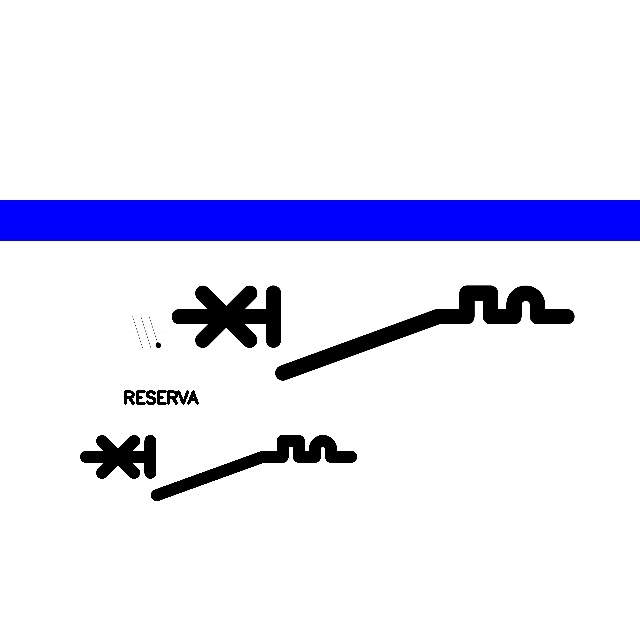interruptor_termomagnetico: (169, 283, 577, 383), (79, 434, 358, 502)
